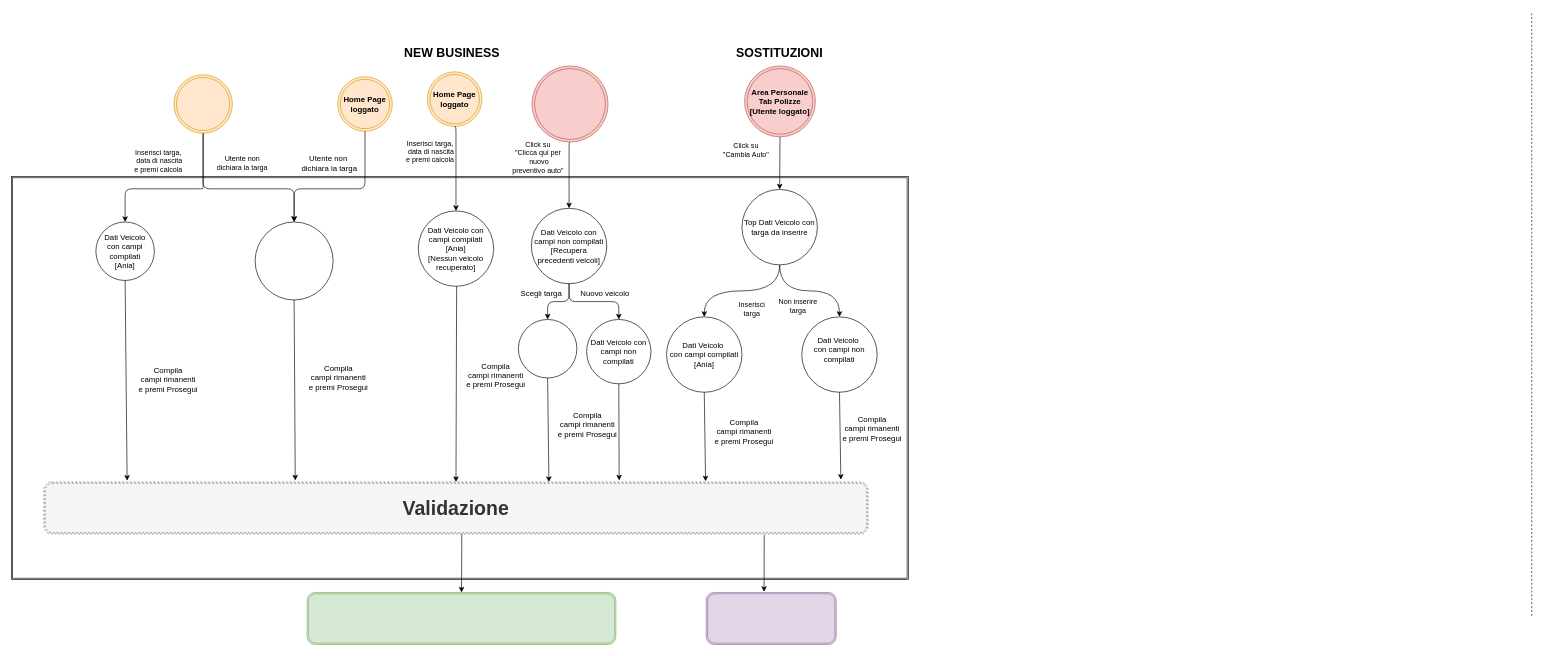
This 1544x656 diagram has some shape labels left out. The shapes that lost their labels are listed below. From the top down, each one's centre as x and y in pixels, then its label:
(202,103): Home Page non loggato
(569,103): Area Personale Tab Preventivi [Utente loggato]
(293,260): Dati Veicolo con campi non compilati [Compare il Top con targa a "No"]
(547,348): Dati Veicolo con campi compilati [Sessione]
(461,618): Dati Anagrafici
(771,618): Pagina Calcolo Sostituzioni
